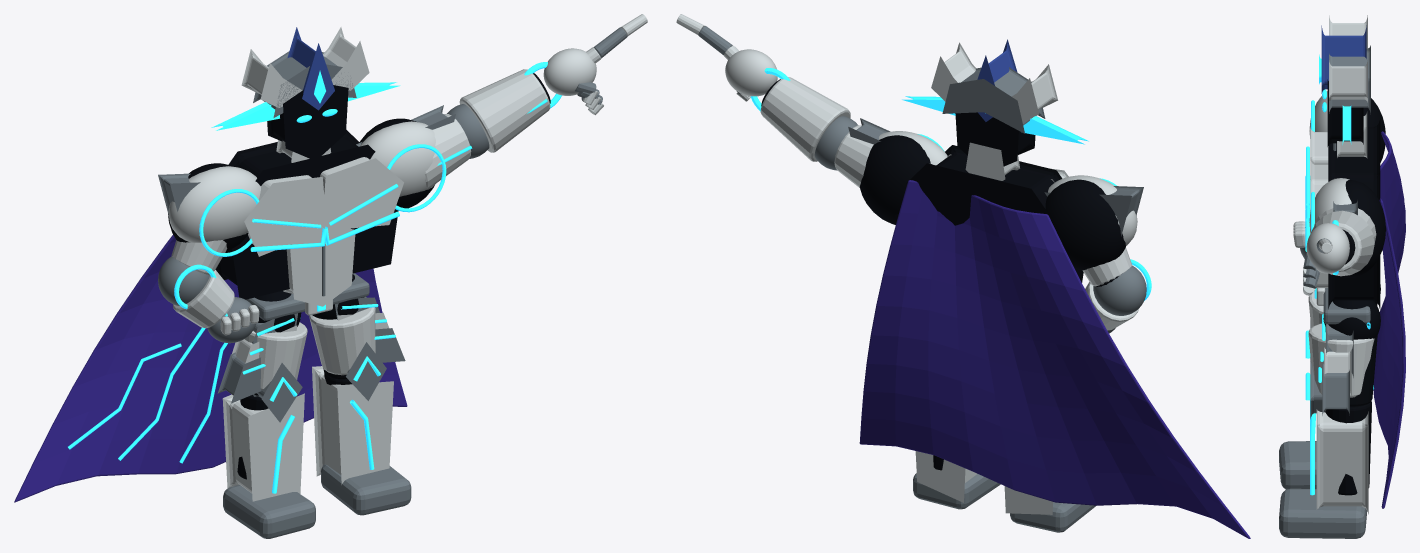
Rendered from tech-knight.glb.
3 views of the same model, side by side, from view 1: azimuth 30°, elevation 25°; view 2: azimuth 150°, elevation 25°; view 3: azimuth 270°, elevation 25° (orthographic). The views are drawn at different scales.
Parts seen in each view (by area): view 1: CircuitCape, TorsoCore, RightGreave, LeftGreave, LeftPauldron, LeftPectoral, RightPectoral, RightForearmArmor, AbdominalPlate, Faceplate, LeftBoot, RightPauldron (+21 smaller); view 2: CircuitCape, TorsoCore, LeftShoulderCore, RightForearmArmor, RightShoulderCore, HelmetCrownBase, Faceplate, RightPalm, LeftElbow, RightGreave, LeftBoot, RightBoot (+12 smaller); view 3: CircuitCape, RightGreave, TorsoCore, RightBoot, RightThighArmor, RightForearmArmor, RightPalm, LeftBoot, RightShoulderCore, CrownWingRight, CrownCenter, RightHip (+25 smaller).
Part boxes in pixels (left/top/right/bottom): CircuitCape: left=14, top=235, right=407, bottom=502; TorsoCore: left=215, top=129, right=398, bottom=299; RightGreave: left=312, top=366, right=393, bottom=484; LeftGreave: left=222, top=393, right=304, bottom=501; LeftPauldron: left=168, top=166, right=260, bottom=242; LeftPectoral: left=244, top=175, right=326, bottom=256; RightPectoral: left=320, top=157, right=403, bottom=230; RightForearmArmor: left=459, top=69, right=550, bottom=152; AbdominalPlate: left=283, top=228, right=355, bottom=306; Faceplate: left=267, top=85, right=348, bottom=160; LeftBoot: left=223, top=484, right=315, bottom=538; RightPauldron: left=360, top=121, right=436, bottom=196; CircuitCape: left=859, top=180, right=1250, bottom=538; TorsoCore: left=895, top=145, right=1083, bottom=282; LeftShoulderCore: left=1045, top=179, right=1125, bottom=270; RightForearmArmor: left=760, top=77, right=850, bottom=161; RightShoulderCore: left=859, top=135, right=930, bottom=224; HelmetCrownBase: left=942, top=67, right=1045, bottom=133; Faceplate: left=955, top=112, right=1035, bottom=166; RightPalm: left=725, top=49, right=777, bottom=96; LeftElbow: left=1093, top=265, right=1146, bottom=315; RightGreave: left=915, top=451, right=977, bottom=502; LeftBoot: left=1010, top=502, right=1096, bottom=532; RightBoot: left=913, top=473, right=1000, bottom=509; CircuitCape: left=1373, top=131, right=1405, bottom=508; RightGreave: left=1316, top=409, right=1368, bottom=514; TorsoCore: left=1328, top=119, right=1380, bottom=309; RightBoot: left=1279, top=488, right=1367, bottom=538; RightThighArmor: left=1308, top=323, right=1374, bottom=397; RightForearmArmor: left=1310, top=210, right=1374, bottom=276; RightPalm: left=1306, top=223, right=1349, bottom=273; LeftBoot: left=1279, top=441, right=1316, bottom=489; RightShoulderCore: left=1341, top=180, right=1385, bottom=277; CrownWingRight: left=1329, top=60, right=1367, bottom=102; CrownCenter: left=1321, top=25, right=1366, bottom=93; RightHip: left=1323, top=300, right=1380, bottom=339.
Bounding box in the file's own units: 9.89 × 7.31 × 1.76.
